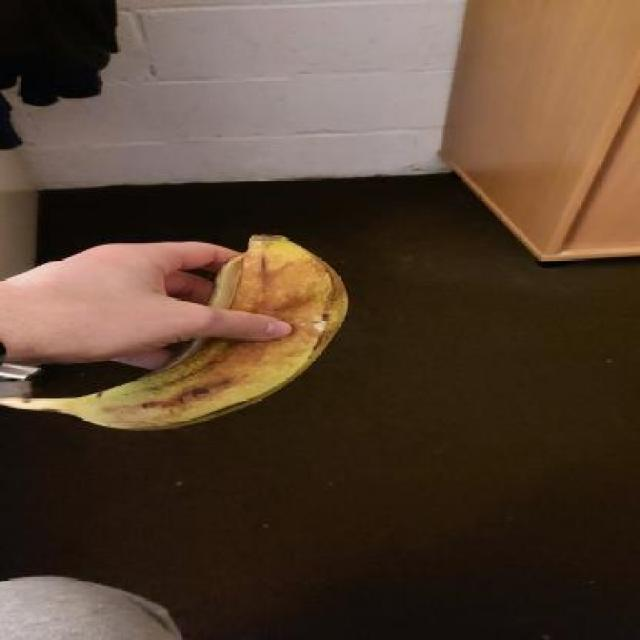banana-peel: (1, 230, 350, 433)
